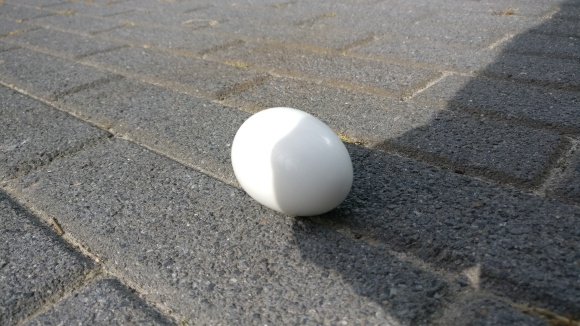egg: (230, 106, 354, 214)
